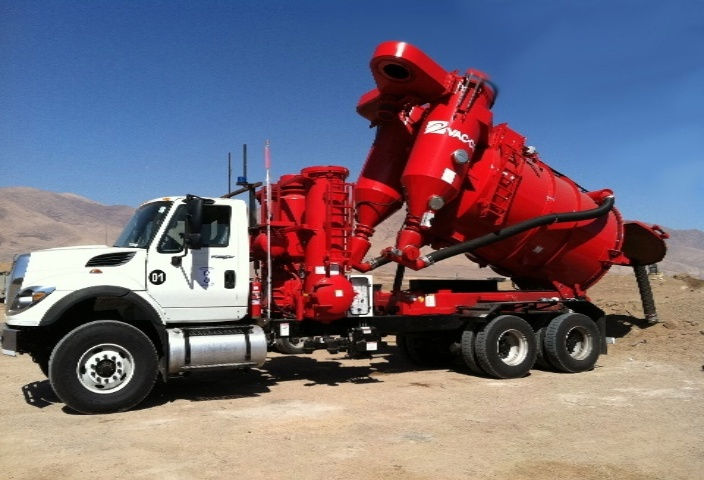industrial: (12, 48, 678, 420)
